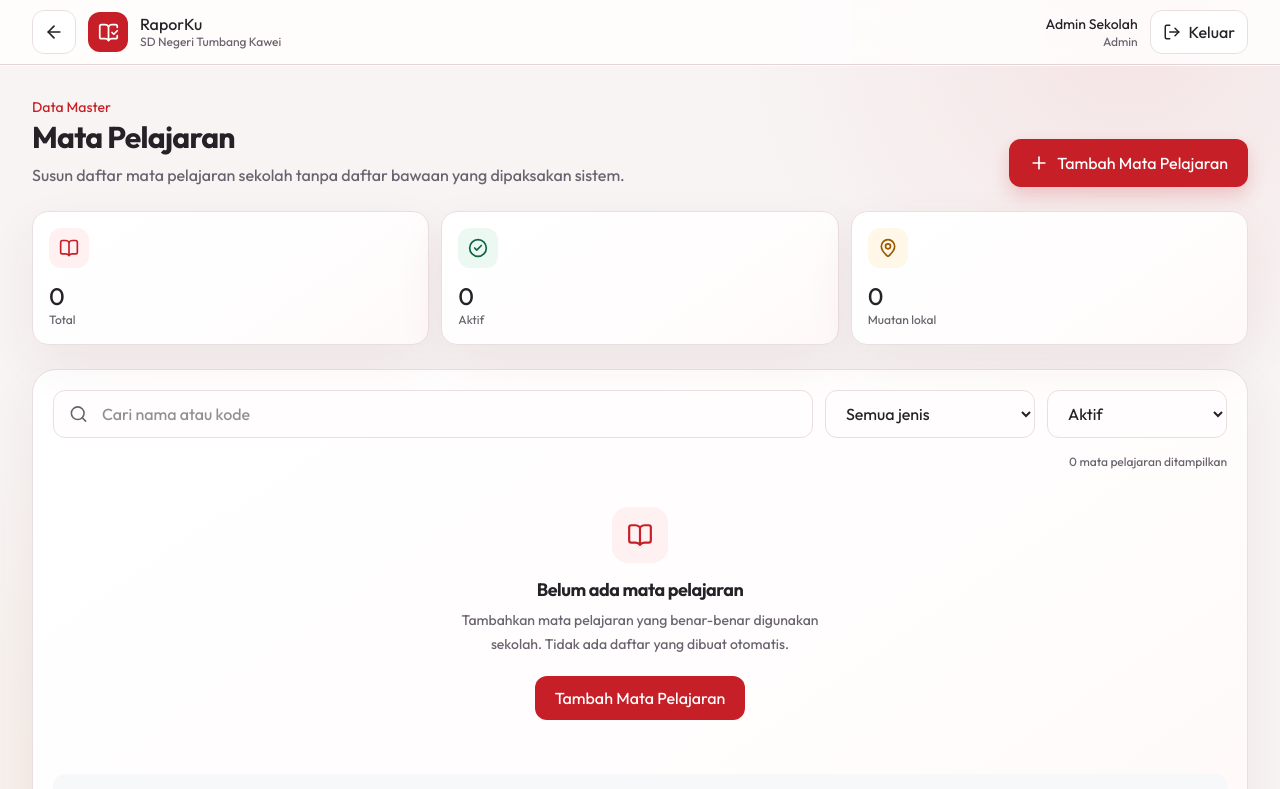
SubjectPage › menyediakan form mata pelajaran dan muatan lokal
The image size is (1280, 789).
Click the 1st button "Tambah Mata Pelajaran" at (1129, 163), box [1009,139,1248,187]
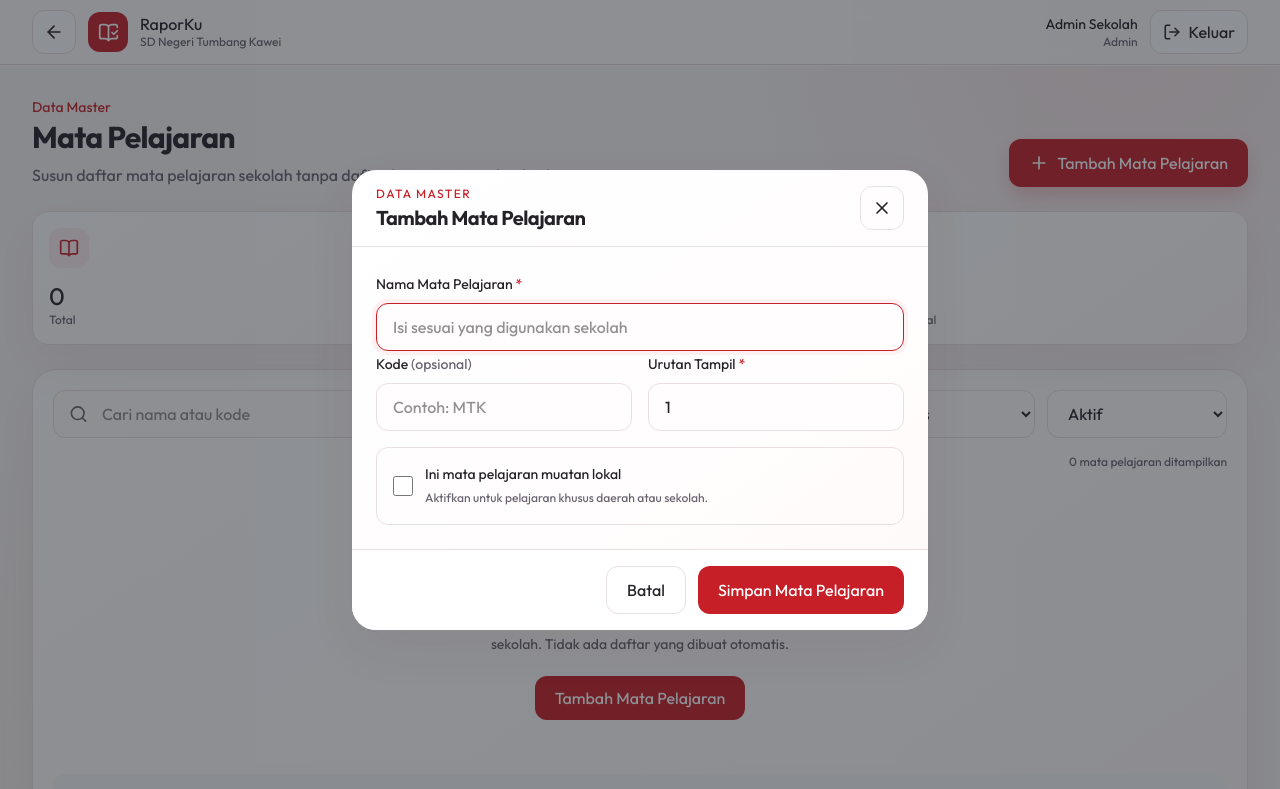
Expected: the field labelled "Nama Mata Pelajaran *" is shown, [376,303,904,351]
Expected: the field labelled "Kode (opsional)" is shown, [376,383,632,431]
Expected: the number field labelled "Urutan Tampil *" is shown, [648,383,904,431]
